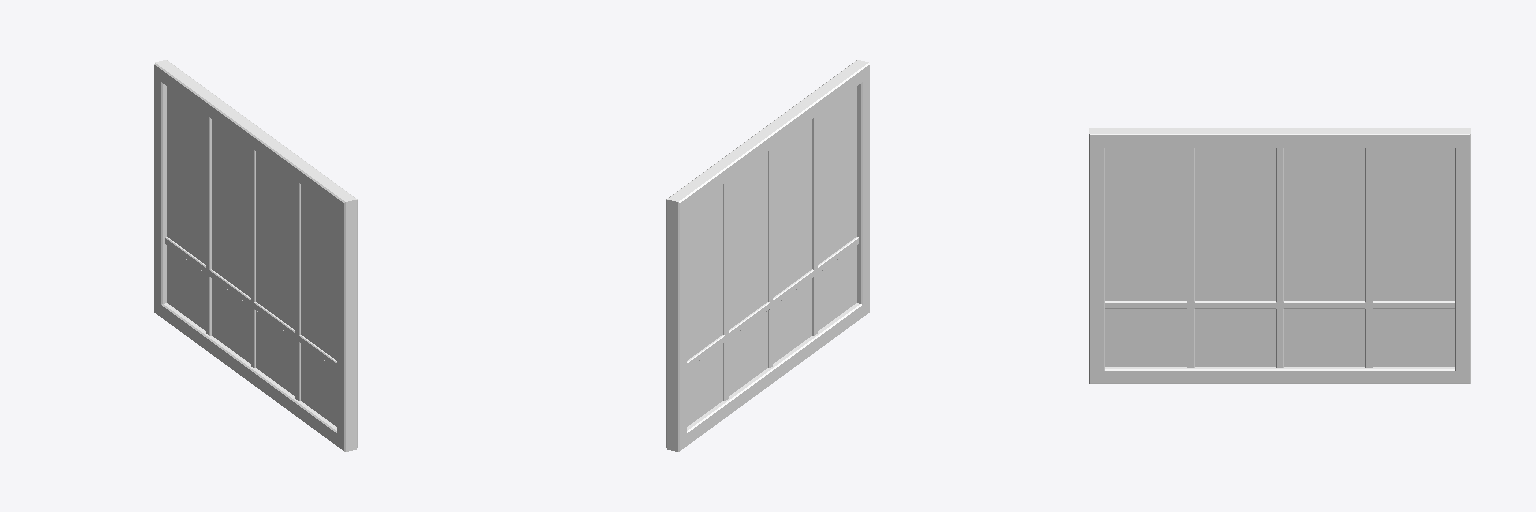
The picture shows the model from 3 angles: view 1: azimuth 30°, elevation 25°; view 2: azimuth 150°, elevation 25°; view 3: azimuth 270°, elevation 25°; orthographic projection.
Parts seen in each view (by area): view 1: aws_RoomWindow_01_visualMesh; view 2: aws_RoomWindow_01_visualMesh; view 3: aws_RoomWindow_01_visualMesh.
Part boxes in pixels (bbox=[...]): aws_RoomWindow_01_visualMesh: bbox=[154, 60, 357, 451]; aws_RoomWindow_01_visualMesh: bbox=[666, 60, 869, 451]; aws_RoomWindow_01_visualMesh: bbox=[1089, 128, 1470, 383].
Size of the model in its own units: 0.0999 by 1.7 by 2.35.